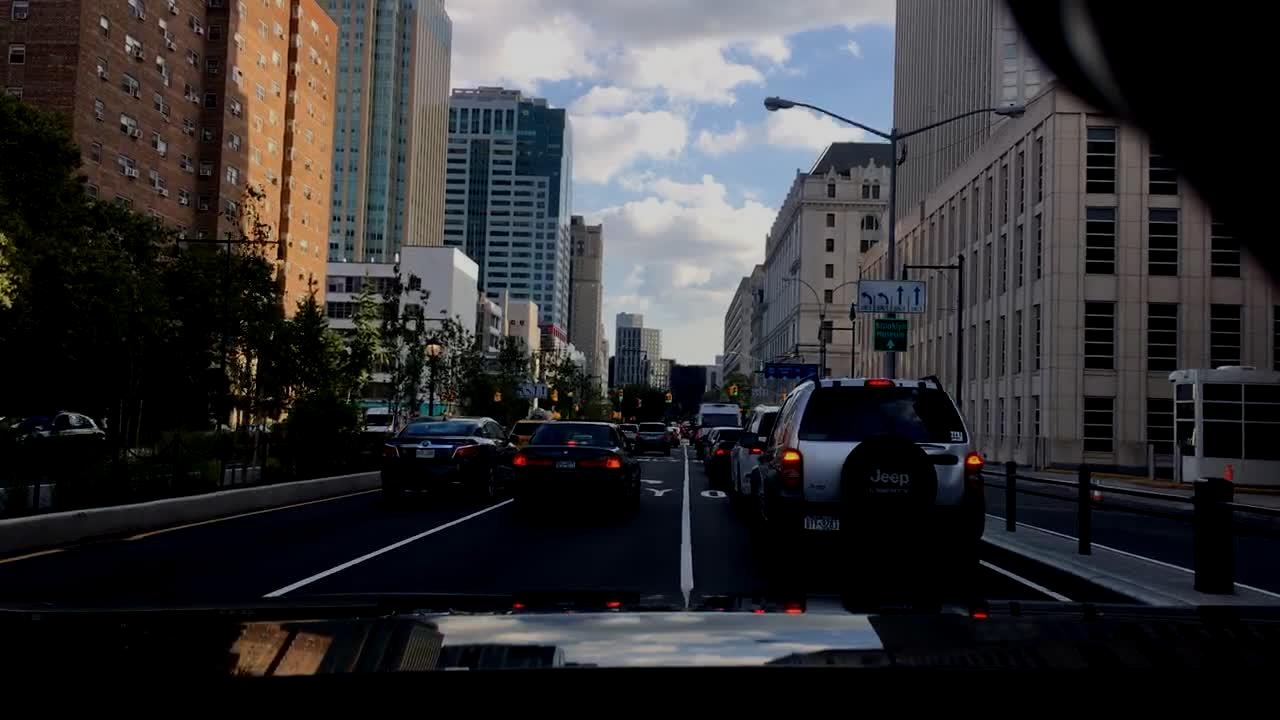jeep: (862, 461, 922, 488)
